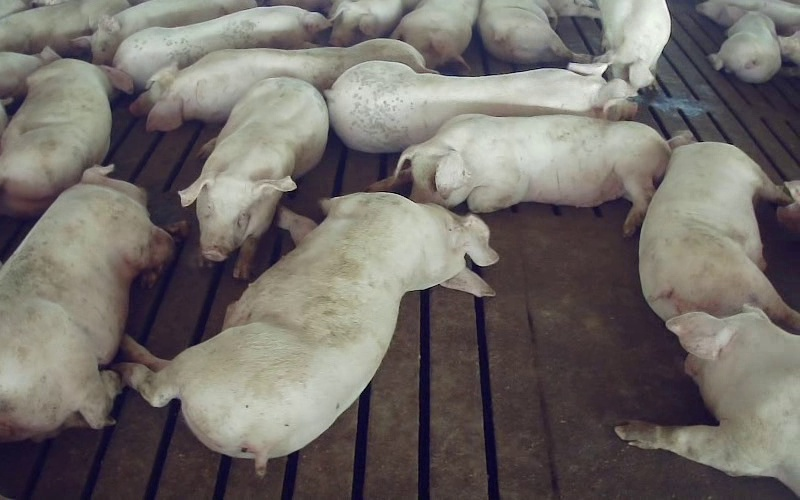pig: (119, 193, 497, 474), (0, 166, 186, 441), (370, 114, 670, 235), (615, 306, 799, 495), (639, 142, 799, 330), (179, 78, 328, 278), (325, 61, 636, 152), (130, 39, 427, 130), (0, 59, 132, 216), (112, 7, 330, 90), (73, 0, 256, 64), (478, 0, 600, 63), (596, 0, 670, 88), (391, 0, 479, 69), (708, 7, 780, 82), (329, 0, 418, 46)
